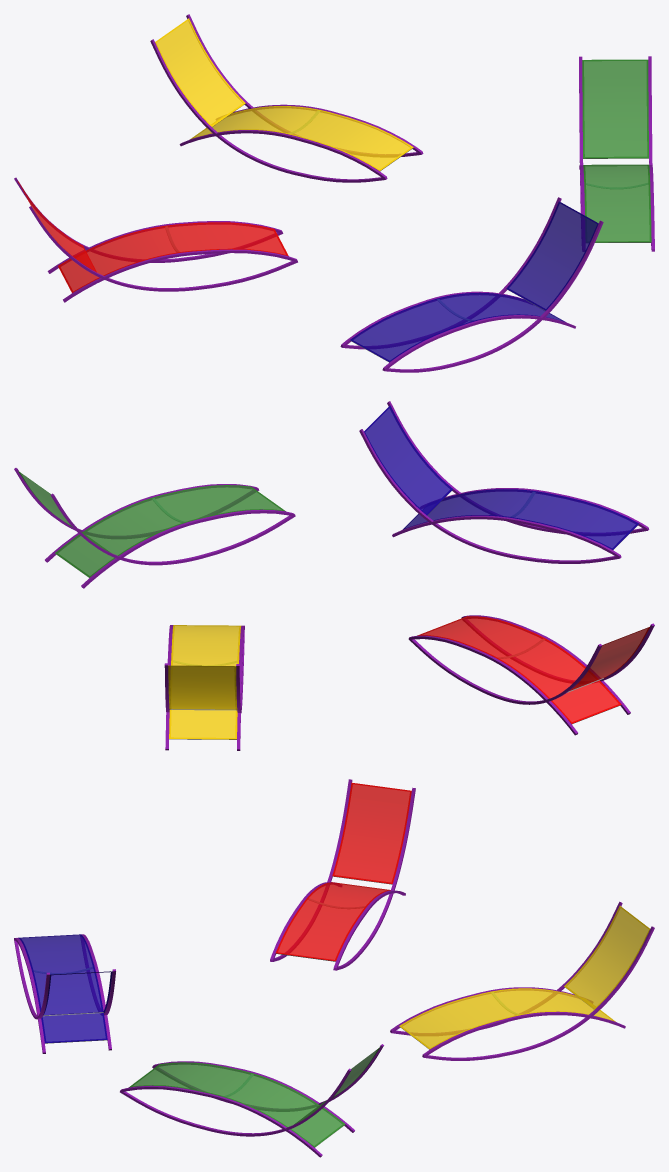
3 renders of one model, top to bottom at view 1: azimuth 30°, elevation 25°; view 2: azimuth 150°, elevation 25°; view 3: azimuth 270°, elevation 25°, orthographic. The views are drawn at different scales.
Parts seen in each view (by area): view 1: Object02, Object03, Object05, Object04, Line16, Line11, Line22, Line06; view 2: Object03, Object04, Object05, Object02, Line11, Line06, Line16, Line22; view 3: Object04, Object05, Object03, Object02, Line22, Line06, Line16, Line11.
Part boxes in pixels (x1,y1,x2,y2): Object02: (582,59,651,242); Object03: (350,201,598,362); Object05: (155,18,413,170); Object04: (17,181,288,292); Line16: (14,177,297,302); Line11: (340,197,603,372); Line22: (150,14,423,182); Line06: (579,56,654,251); Object03: (364,405,638,549); Object04: (417,616,650,723); Object05: (168,625,241,739); Object02: (18,471,285,577); Line11: (359,401,649,563); Line06: (14,468,295,588); Line16: (408,615,654,735); Line22: (164,625,244,750); Object04: (276,782,411,961); Object05: (399,906,649,1049); Object03: (18,934,112,1043); Object02: (129,1047,379,1147); Line22: (390,901,654,1060); Line06: (120,1044,383,1157); Line16: (270,779,415,970); Line11: (14,934,115,1053).
Bounding box in the file's own units: 5.18 × 0.7853 × 4.81.
